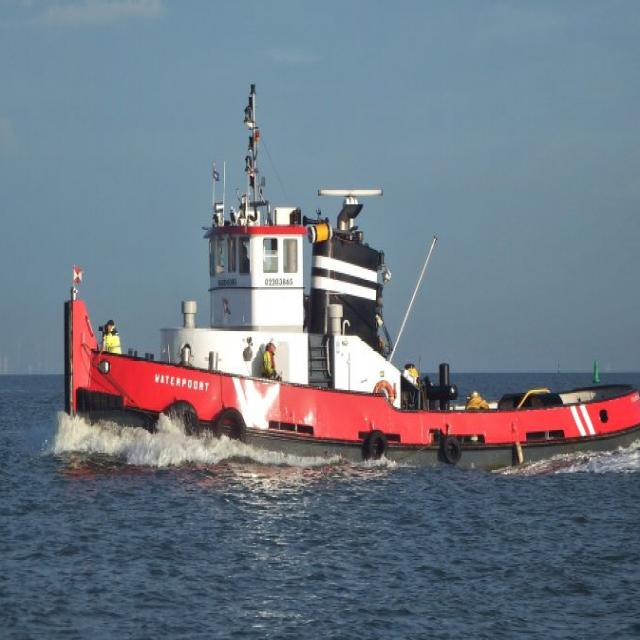tugboat: (58, 180, 640, 485)
